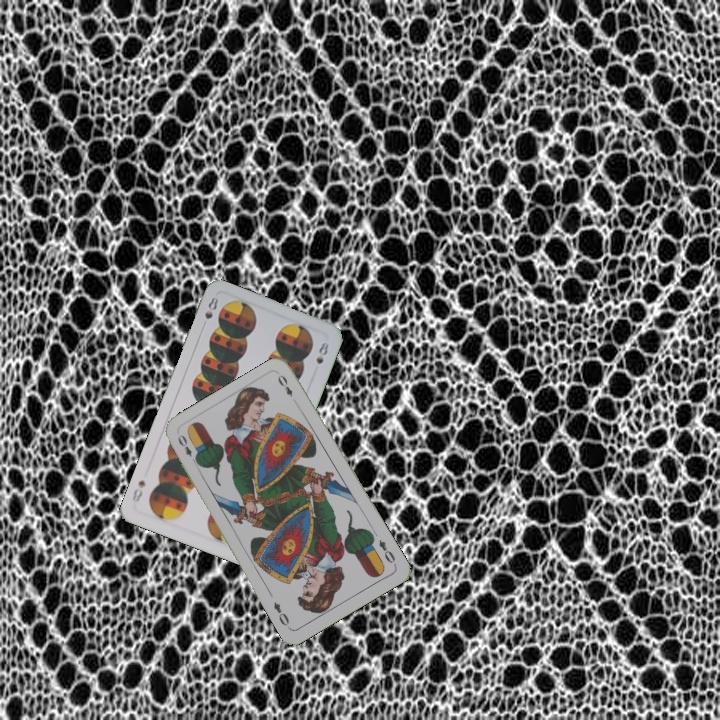EO: (174, 431, 200, 467), (375, 536, 399, 569)
S8: (200, 293, 221, 322)
